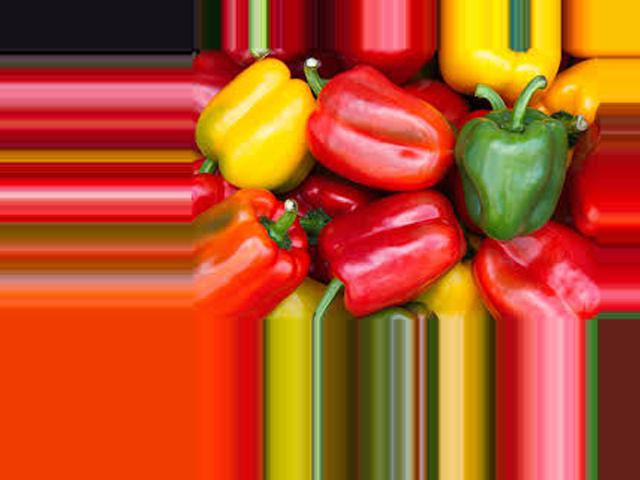bell_pepper: (194, 51, 320, 198)
